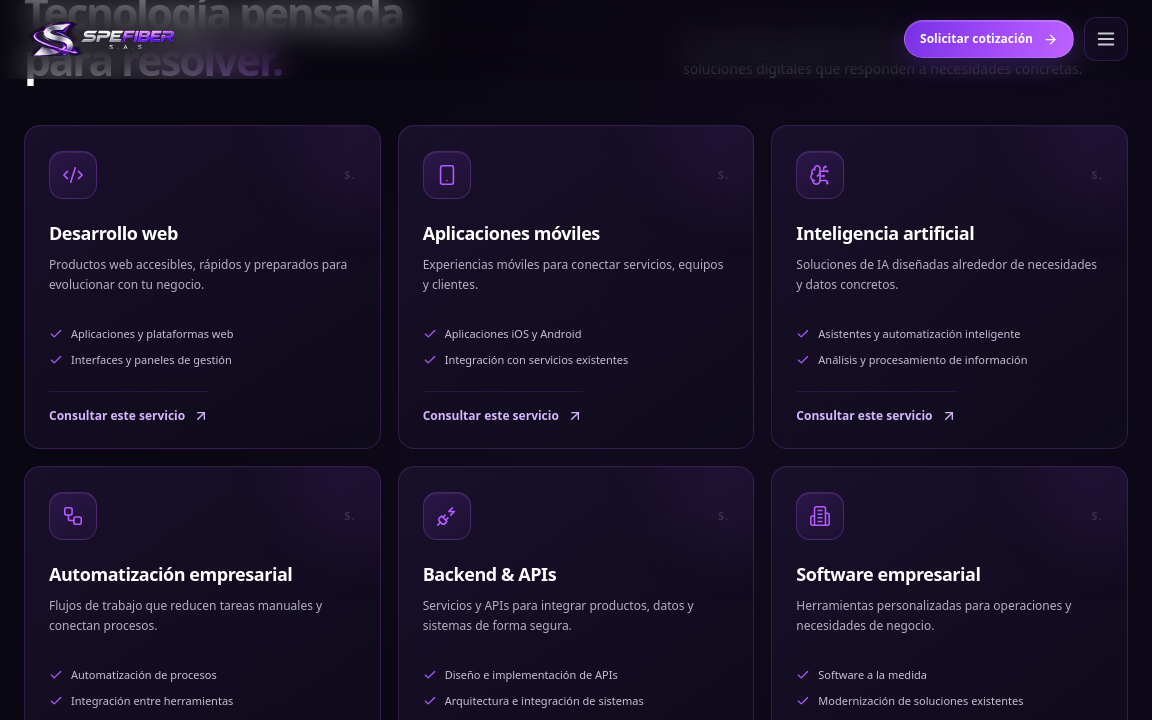
Test case: landing SPEFIBER › preselecciona el servicio desde su tarjeta y abre/cierra el detalle de un concepto
This screenshot has width=1152, height=720.
(page scrolled)
Click the link "Consultar este servicio" below "Interfaces y paneles de gestión" at coordinates (129, 408), box [49,391,209,426]
(page scrolled)
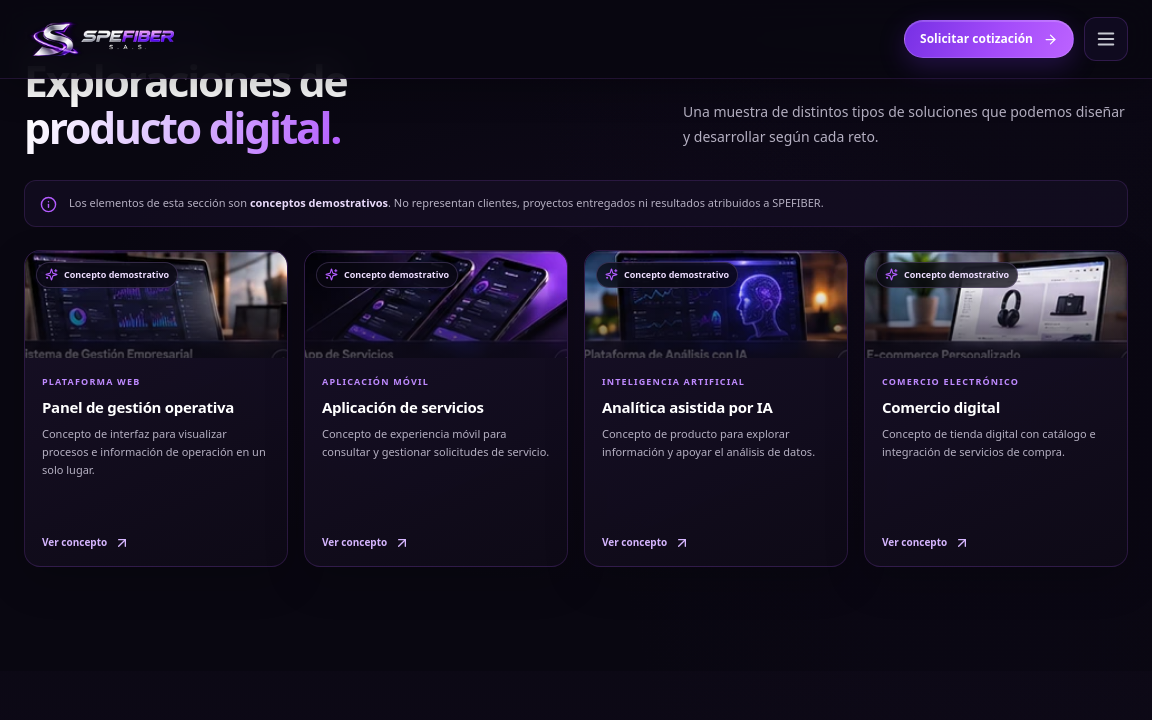
Click the button with aria-label "Ver detalles de Panel de gestión operativa" at coordinates (156, 408), box [25,251,287,566]
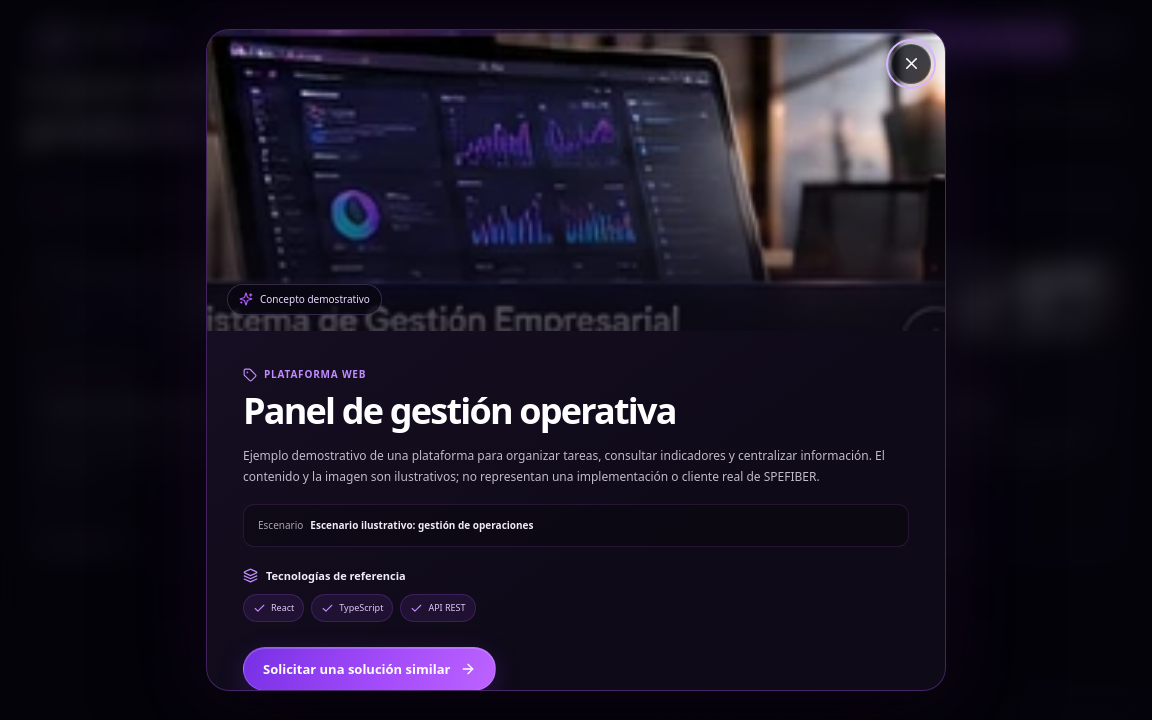
Result: the heading "Panel de gestión operativa" is shown at [243,386,676,434]
Press Escape
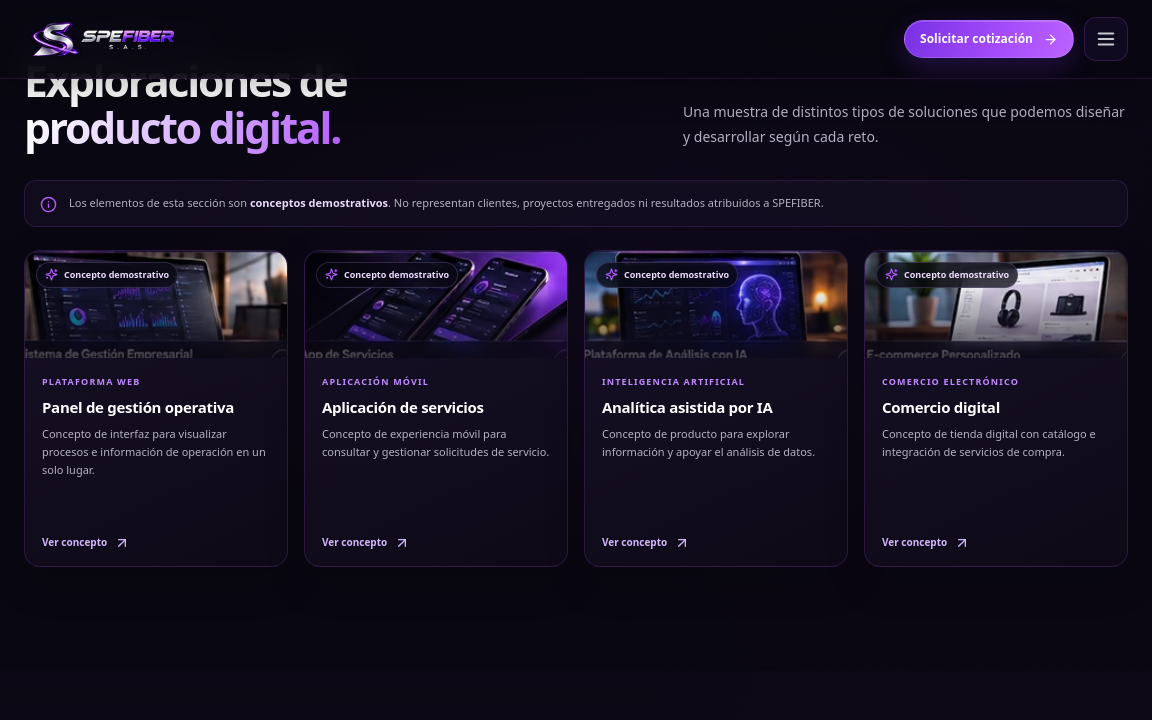
Result: the dialog is gone
